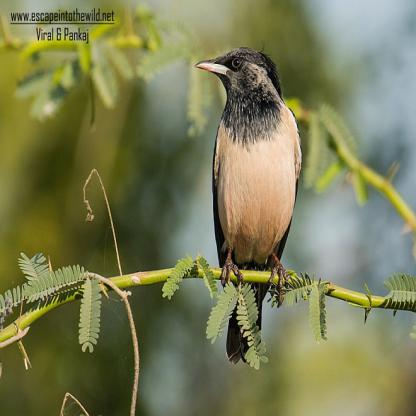Burung: (191, 45, 306, 363)
